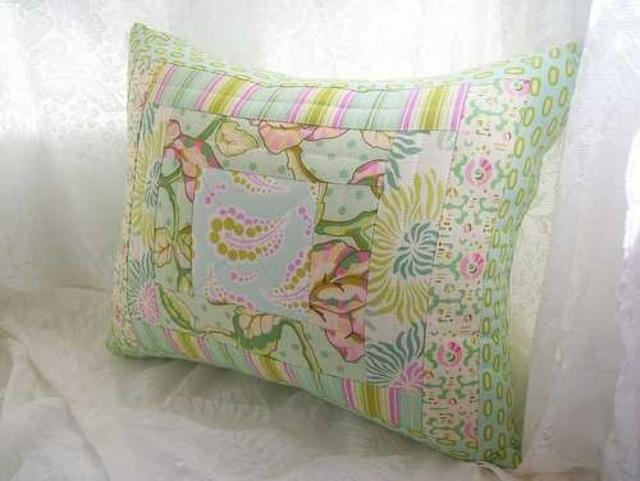pillow: (104, 20, 584, 468)
